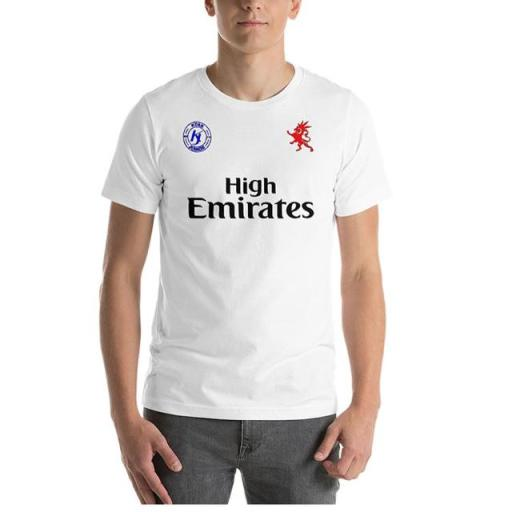Emirates: (186, 174, 316, 228)
